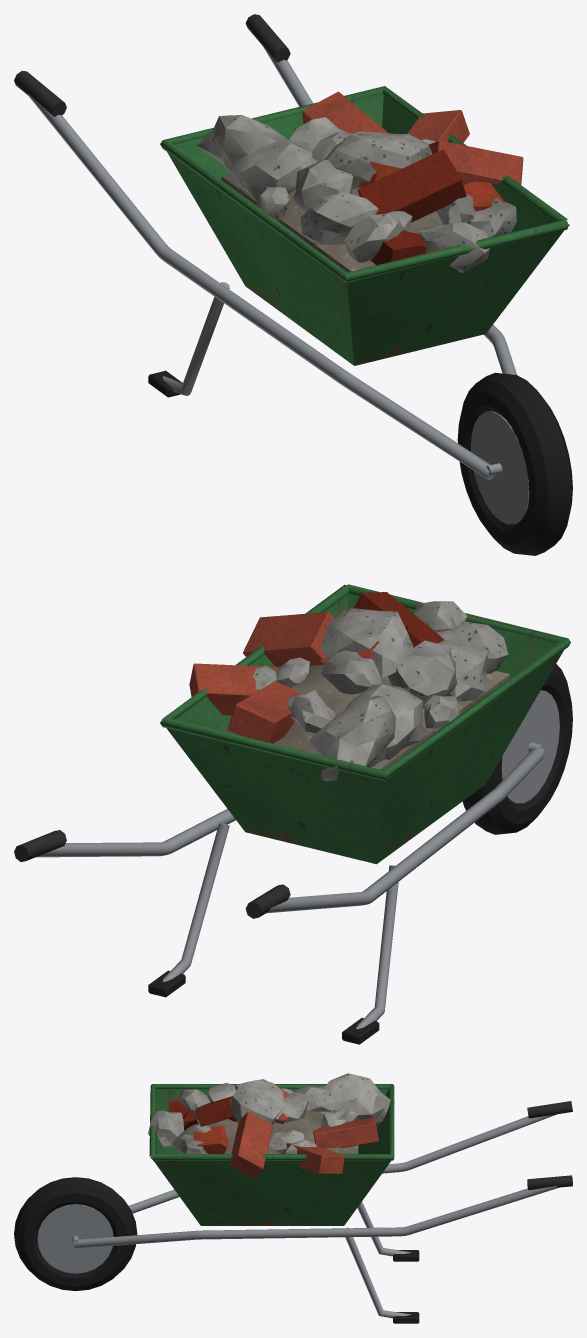
File: debris-wheelbarrow.glb
The picture shows the model from 3 angles, top to bottom: view 1: azimuth 30°, elevation 25°; view 2: azimuth 150°, elevation 25°; view 3: azimuth 270°, elevation 25°; orthographic projection. The views are drawn at different scales.
Parts seen in each view (by area): view 1: Debris_Wheelbarrow; view 2: Debris_Wheelbarrow; view 3: Debris_Wheelbarrow.
Part boxes in pixels (box(x1,y1,x2,y2)): Debris_Wheelbarrow: box(14, 14, 572, 555); Debris_Wheelbarrow: box(14, 584, 572, 1044); Debris_Wheelbarrow: box(14, 1073, 572, 1323).
Size of the model in its own units: 0.6815 by 0.7737 by 1.9.
9 materials, 6 textured.
